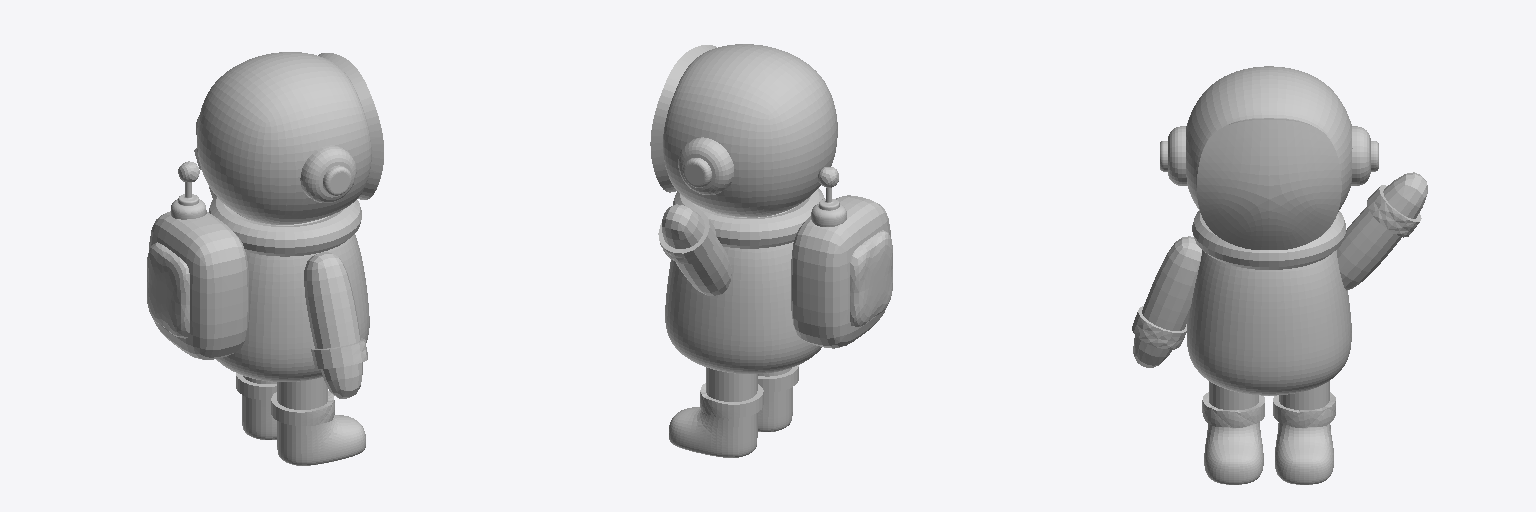
Rendered from astronaut2.obj.
3 views of the same model, side by side, from view 1: azimuth 30°, elevation 25°; view 2: azimuth 150°, elevation 25°; view 3: azimuth 270°, elevation 25° (orthographic).
Visible parts, largest first — view 1: Torus; view 2: Torus; view 3: Torus.
Part boxes in pixels (x1,y1,x2,y2): Torus: (147, 52, 383, 465); Torus: (650, 44, 892, 457); Torus: (1132, 66, 1427, 484).
Size of the model in its own units: 1.99 by 3.56 by 2.49.